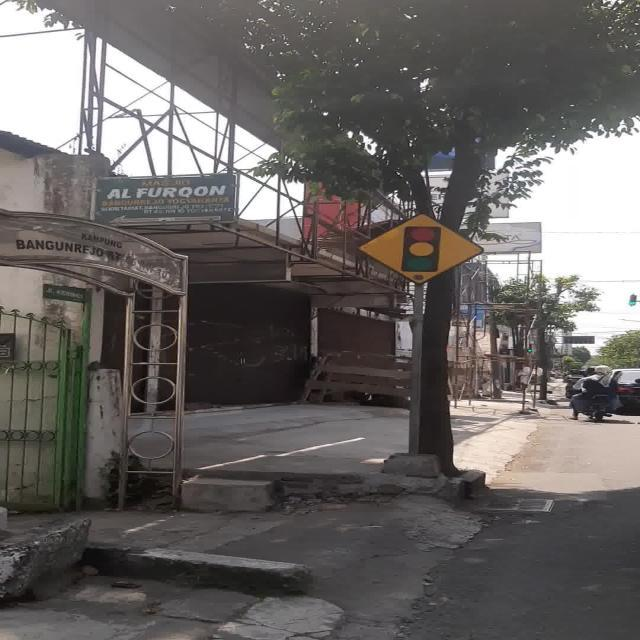Lampu Lalu Lintas: (356, 213, 484, 284)
